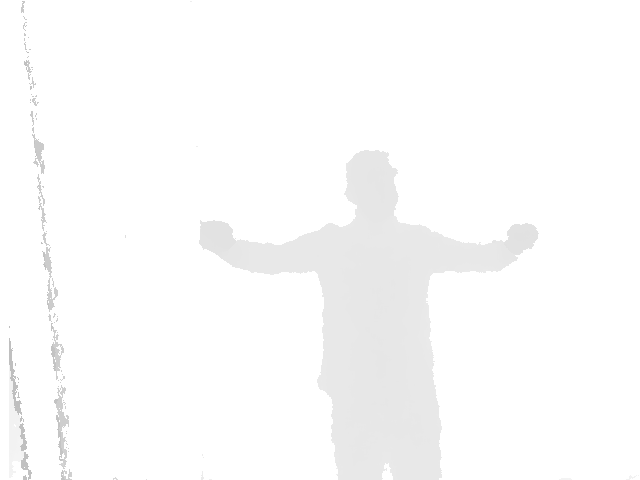head: (344, 150, 399, 218)
person: (200, 149, 539, 480)
